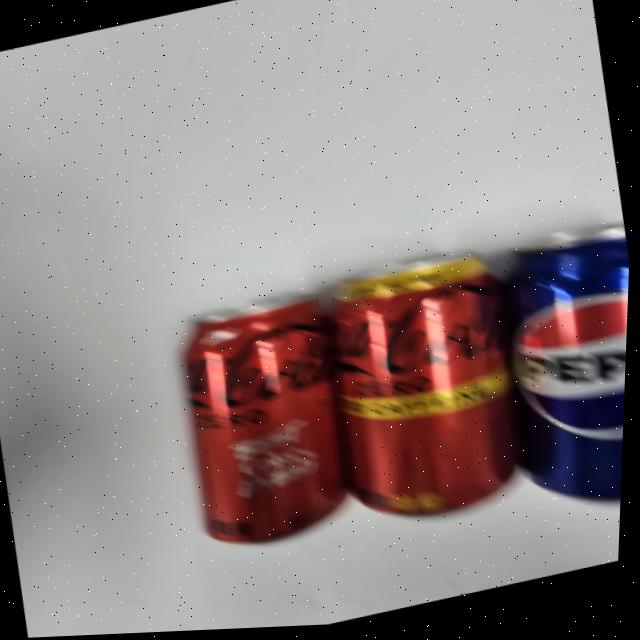can_coke_decaf: (332, 251, 517, 513)
can_coke_zero: (178, 290, 352, 548)
can_pepsi: (507, 225, 629, 499)
